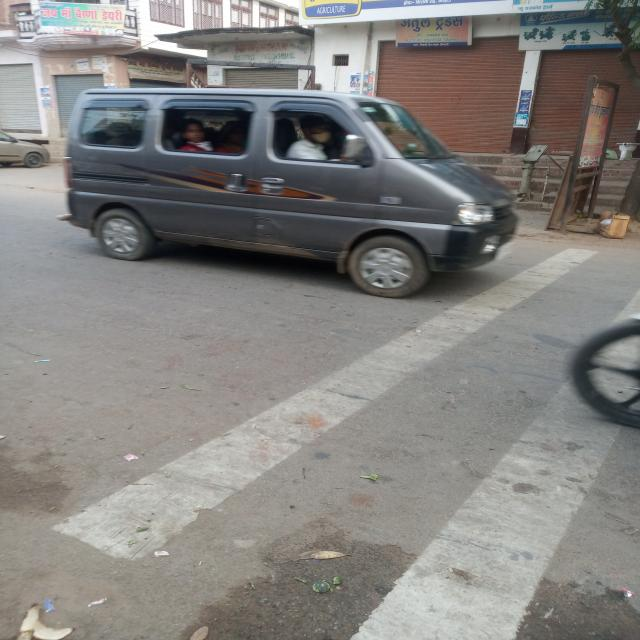Car: (52, 79, 514, 300)
